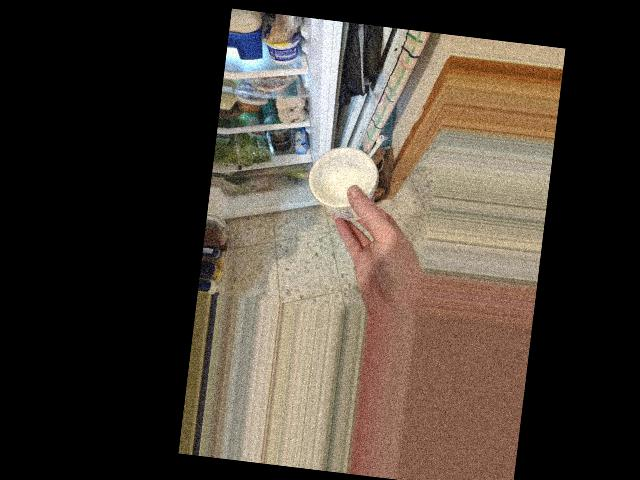cotage: (307, 134, 384, 227)
